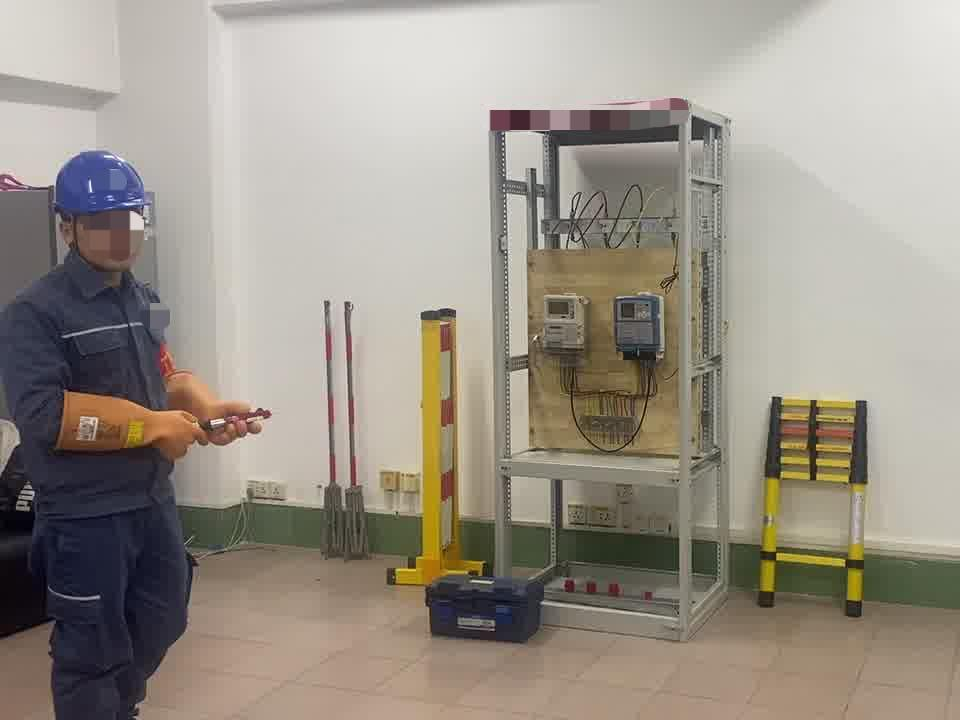halt: (52, 151, 160, 275)
inear: (59, 218, 83, 250)
